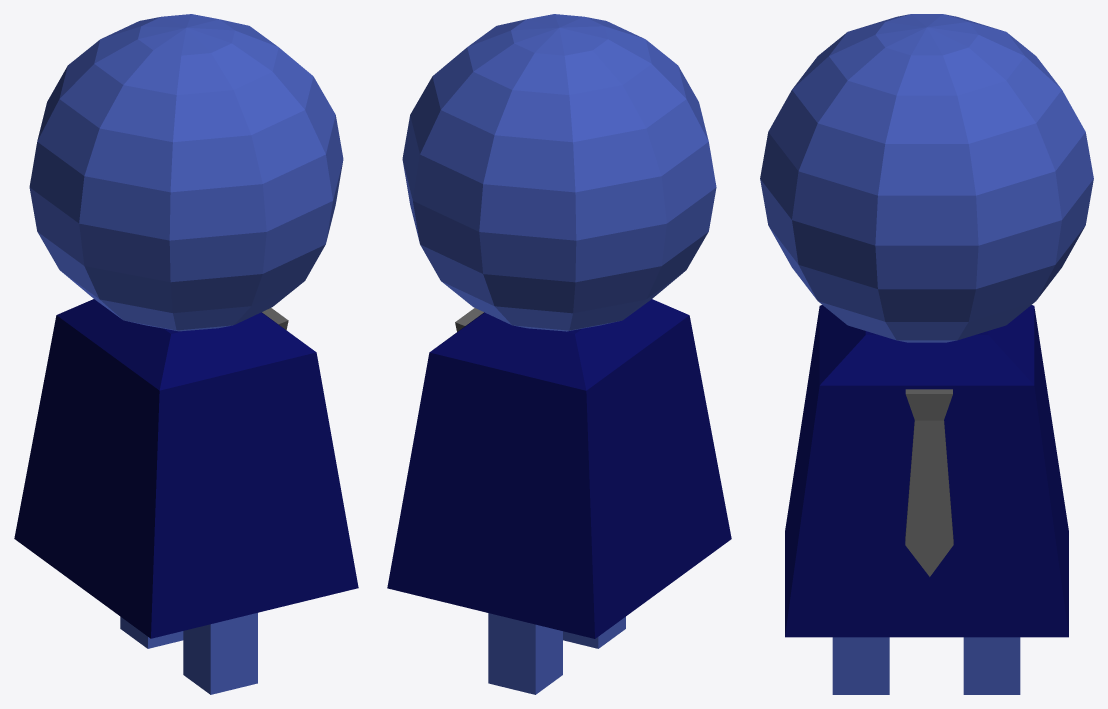
File: GGJBLUEPlayer (1).fbx
3 views of the same model, side by side, from view 1: azimuth 30°, elevation 25°; view 2: azimuth 150°, elevation 25°; view 3: azimuth 270°, elevation 25° (orthographic). The views are drawn at different scales.
Visible parts, largest first — view 1: Body, Head, leg, legg; view 2: Body, Head, legg, leg; view 3: Head, Body, Tie, leg, legg.
Boxes of the visible parts, x1,y1,x2,y2 form: Body: (14, 299, 358, 638); Head: (29, 14, 343, 331); leg: (183, 613, 257, 694); legg: (120, 617, 183, 648); Body: (387, 299, 731, 638); Head: (402, 14, 716, 331); legg: (488, 613, 562, 694); leg: (563, 617, 625, 648); Head: (760, 14, 1093, 342); Body: (785, 305, 1068, 637); Tie: (905, 389, 953, 576); leg: (832, 637, 889, 694); legg: (963, 637, 1020, 694).
Size of the model in its own units: 190 by 432 by 200.
